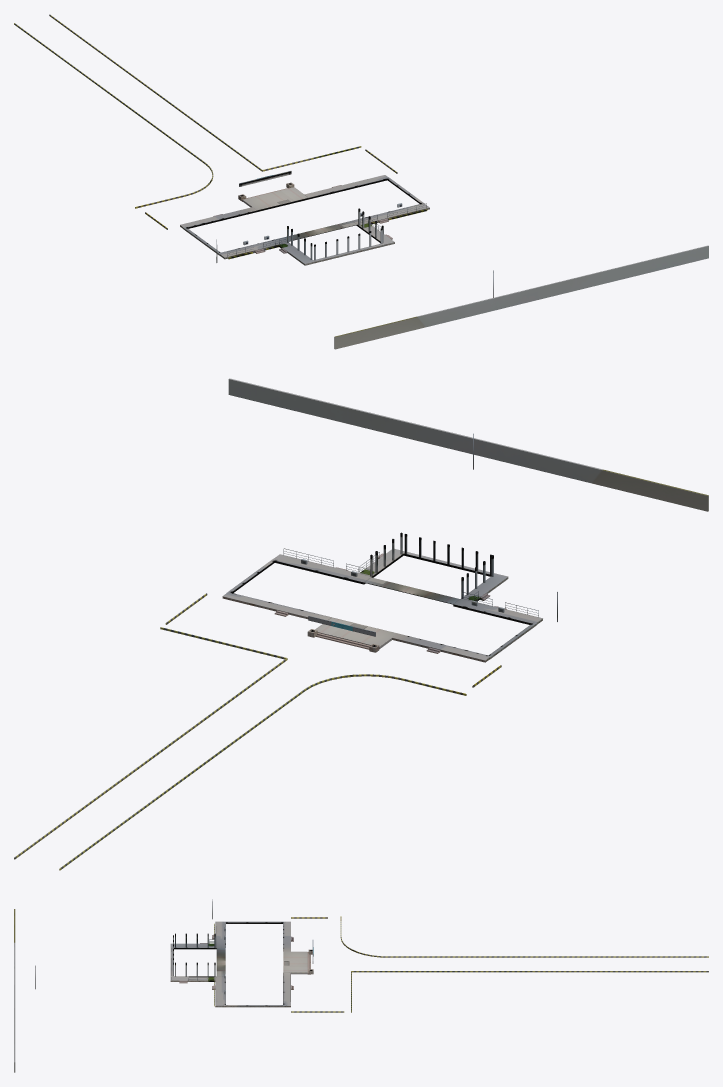
File: world_ext0.glb
3 renders of one model, top to bottom at view 1: azimuth 30°, elevation 25°; view 2: azimuth 150°, elevation 25°; view 3: azimuth 270°, elevation 25°, orthographic. The views are drawn at different scales.
Parts seen in each view (by area): view 1: W_ext0; view 2: W_ext0; view 3: W_ext0.
Part boxes in pixels (x1,y1,x2,y2): W_ext0: (14, 14, 708, 349); W_ext0: (14, 378, 708, 870); W_ext0: (14, 899, 708, 1072).
Size of the model in its own units: 71 by 5.07 by 134.
Materials: 1 (1 with a texture image).
